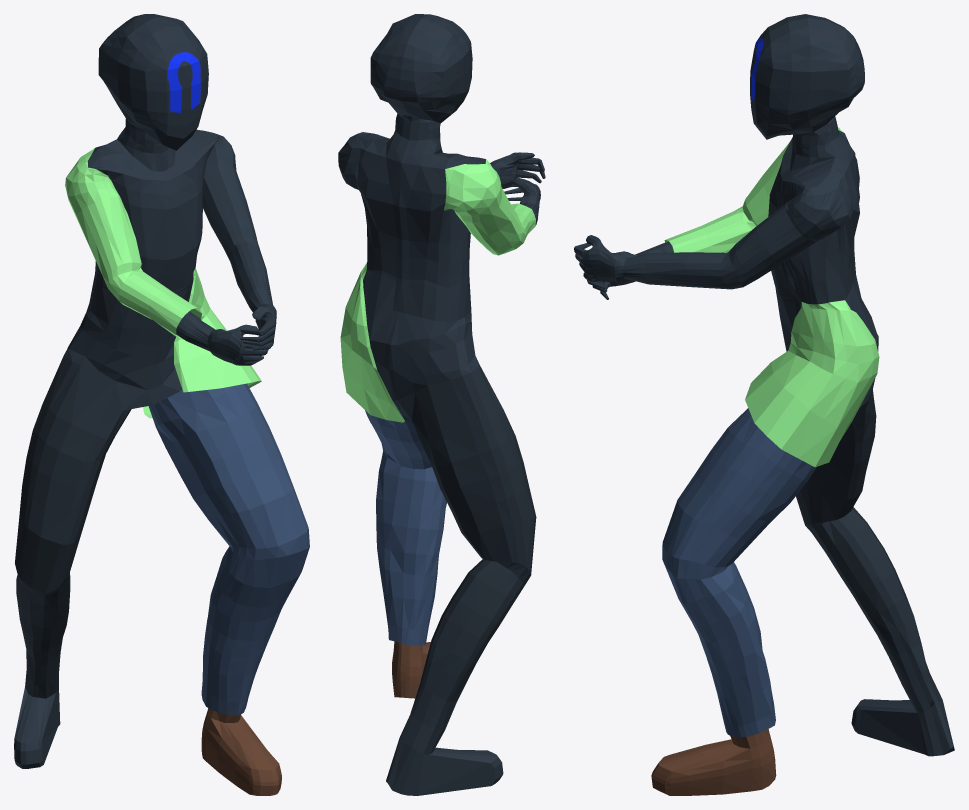
File: Mar_WF_000027.obj
The picture shows the model from 3 angles, left to right: view 1: azimuth 30°, elevation 25°; view 2: azimuth 150°, elevation 25°; view 3: azimuth 270°, elevation 25°; orthographic projection. The views are drawn at different scales.
Visible parts, largest first — view 1: Cube.000_Cube.001; view 2: Cube.000_Cube.001; view 3: Cube.000_Cube.001.
Boxes of the visible parts, box(x1,y1,x2,y2) form: Cube.000_Cube.001: box(14, 14, 309, 795); Cube.000_Cube.001: box(338, 14, 545, 795); Cube.000_Cube.001: box(574, 14, 954, 795).
Bounding box in the file's own units: 1.14 × 3.71 × 1.68.
